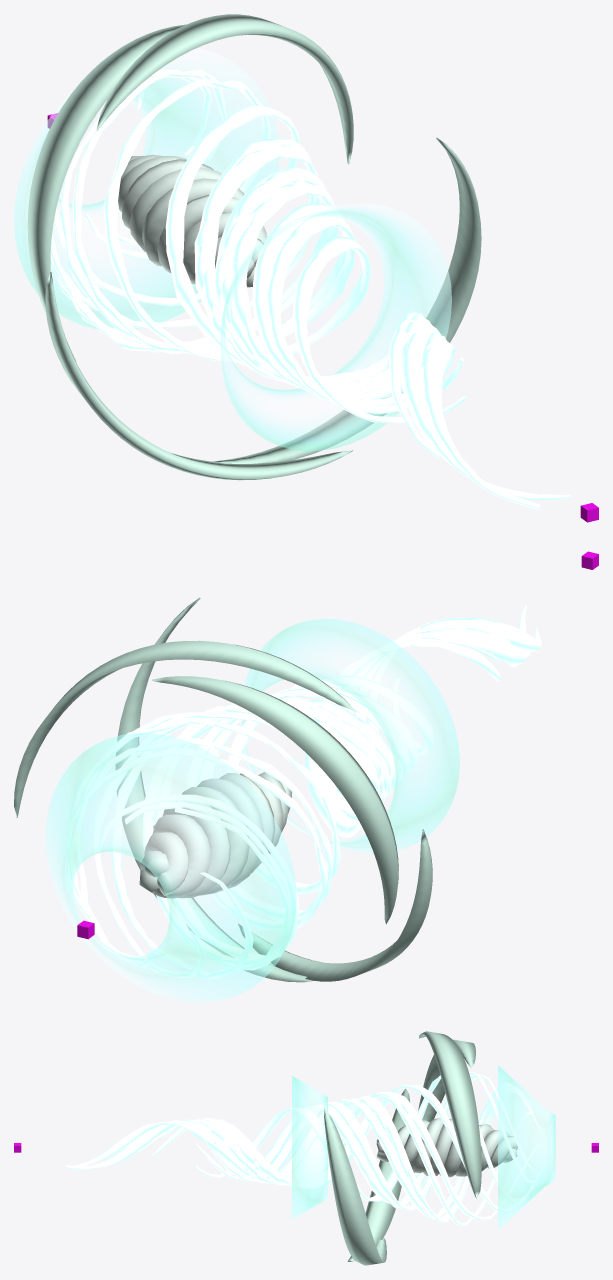
File: WindBlast.fbx
3 views of the same model, one above another, from view 1: azimuth 30°, elevation 25°; view 2: azimuth 150°, elevation 25°; view 3: azimuth 270°, elevation 25° (orthographic). The views are drawn at different scales.
Parts seen in each view (by area): view 1: Streams, Rings.001, Blades, Core.005; view 2: Rings.001, Streams, Blades, Core.005; view 3: Streams, Rings.001, Blades, Core.005.
Part boxes in pixels (left/top/right/bottom): Streams: left=50, top=69, right=572, bottom=509; Rings.001: left=14, top=48, right=451, bottom=451; Blades: left=27, top=14, right=481, bottom=480; Core.005: left=118, top=154, right=267, bottom=287; Rings.001: left=45, top=619, right=459, bottom=1002; Streams: left=66, top=605, right=541, bottom=979; Blades: left=14, top=597, right=432, bottom=982; Core.005: left=139, top=772, right=291, bottom=898; Streams: left=65, top=1072, right=542, bottom=1226; Rings.001: left=292, top=1065, right=555, bottom=1229; Blades: left=324, top=1031, right=481, bottom=1265; Core.005: left=376, top=1118, right=517, bottom=1177.
Bounding box in the file's own units: 3.24 × 3.24 × 8.1.
